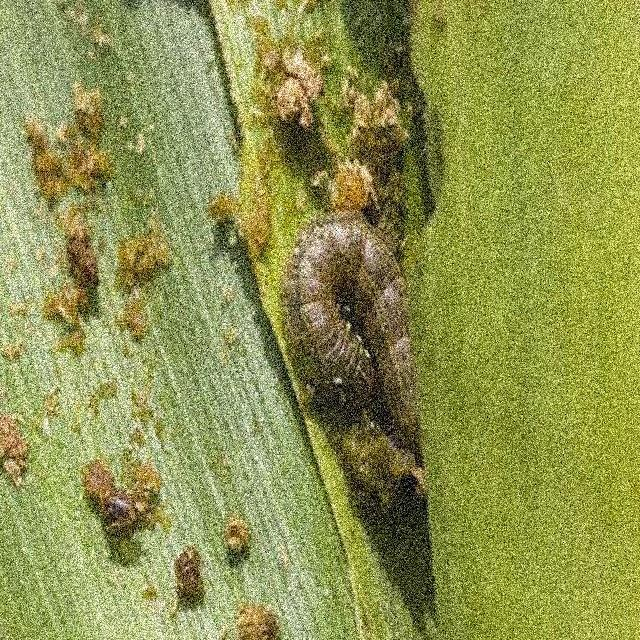Plaga: (279, 206, 421, 450)
